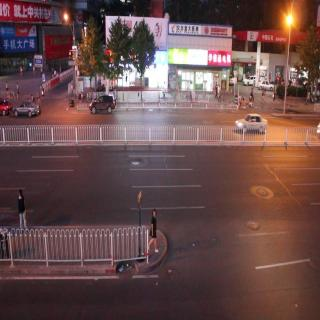Car: (236, 111, 266, 134), (89, 93, 115, 116), (16, 99, 39, 119), (259, 78, 274, 94)
